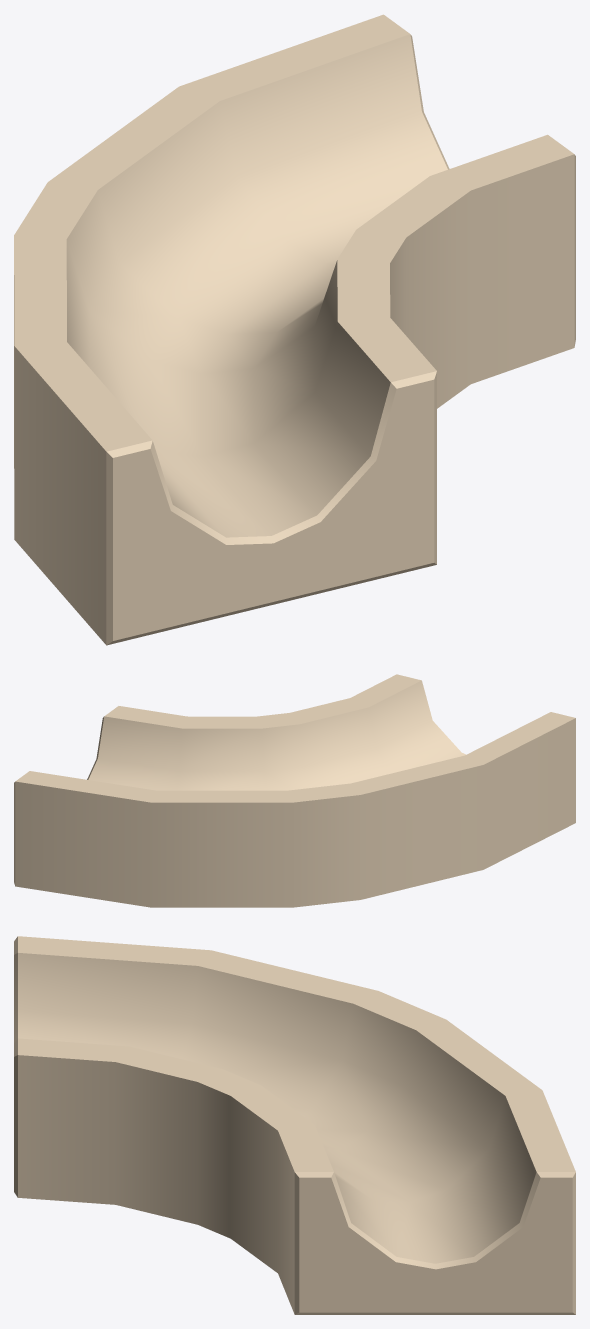
Rendered from track_corner_a03.glb.
The picture shows the model from 3 angles, top to bottom: view 1: azimuth 30°, elevation 25°; view 2: azimuth 150°, elevation 25°; view 3: azimuth 270°, elevation 25°; orthographic projection. The views are drawn at different scales.
Visible parts, largest first — view 1: Corner; view 2: Corner; view 3: Corner.
Part boxes in pixels (x1,y1,x2,y2): Corner: [14, 14, 575, 645]; Corner: [14, 674, 575, 907]; Corner: [14, 936, 575, 1314].
Size of the model in its own units: 4 by 1.12 by 4.
